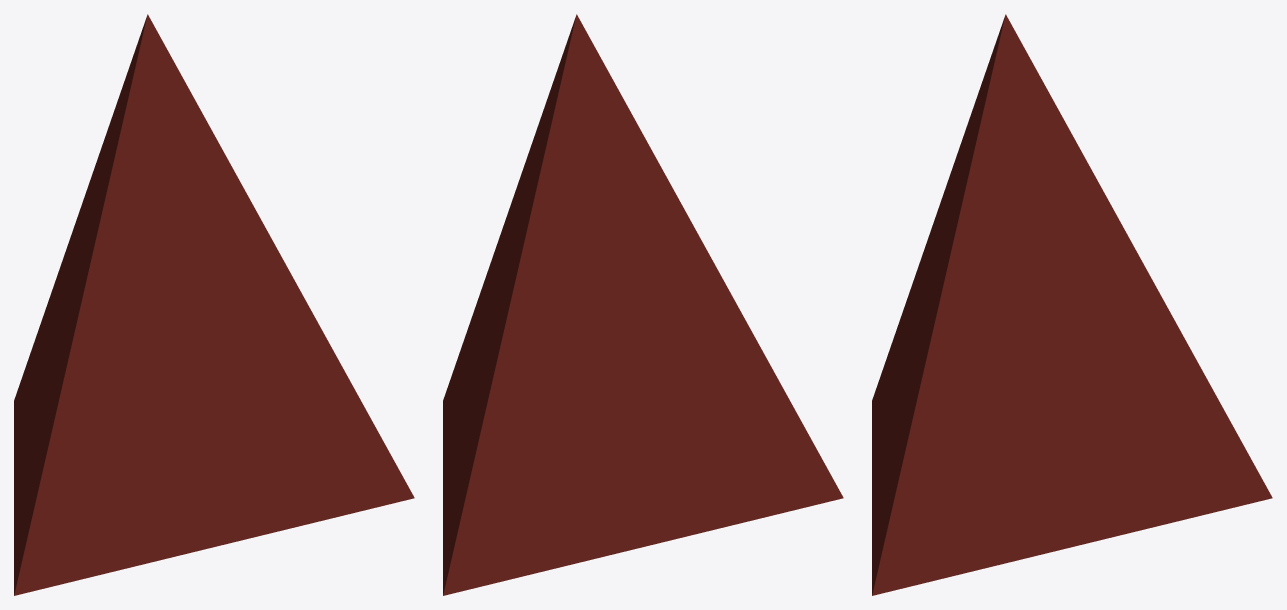
File: Pests-Spike.fbx
3 views of the same model, side by side, from view 1: azimuth 30°, elevation 25°; view 2: azimuth 150°, elevation 25°; view 3: azimuth 270°, elevation 25° (orthographic).
Parts seen in each view (by area): view 1: Pests-Spike; view 2: Pests-Spike; view 3: Pests-Spike.
Part boxes in pixels (<box>): Pests-Spike: <box>14,14,414,595</box>; Pests-Spike: <box>443,14,843,595</box>; Pests-Spike: <box>872,14,1272,595</box>.
Size of the model in its own units: 0.1016 by 0.0879 by 0.1173.
